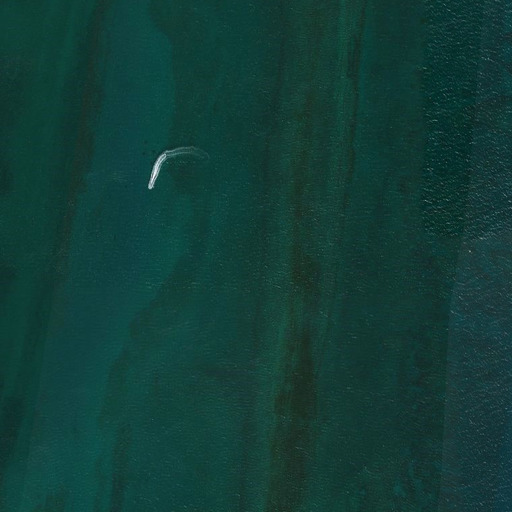ship: (147, 181, 154, 190)
